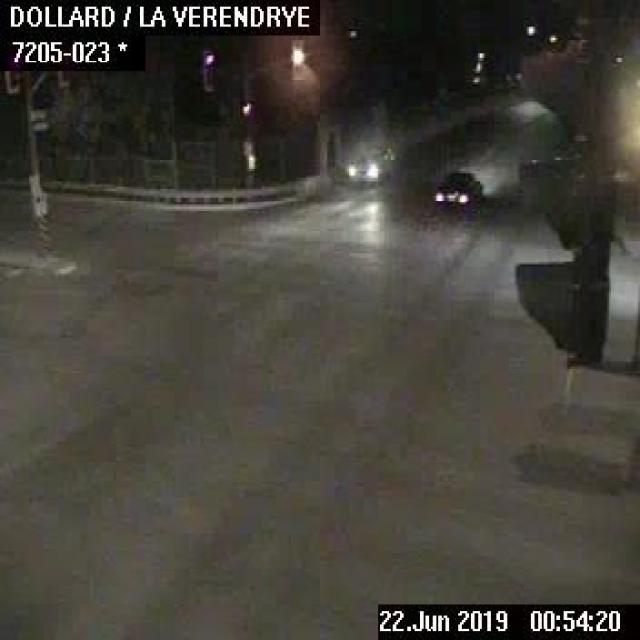vehicle: (342, 138, 396, 185), (431, 167, 483, 210)
